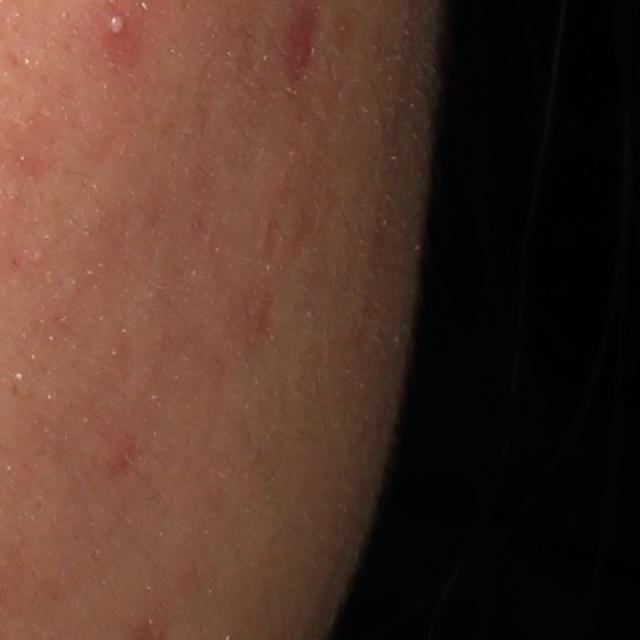pustule: (102, 4, 133, 44)
